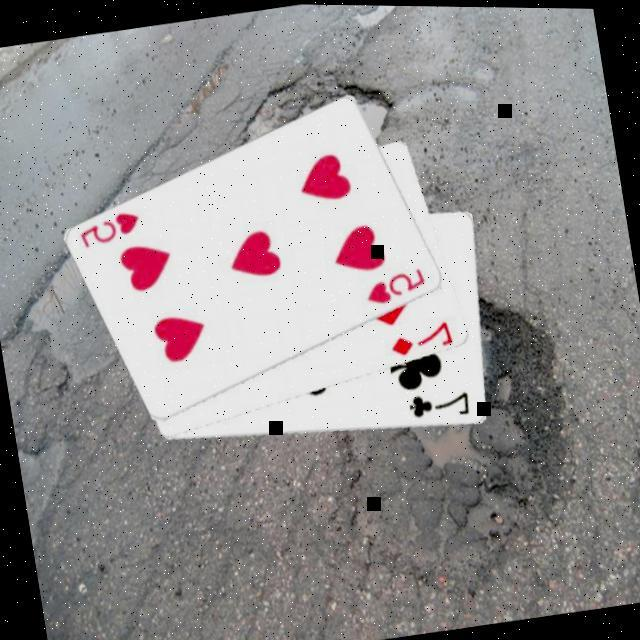5H: (74, 204, 148, 251), (361, 260, 432, 307)
7C: (405, 381, 475, 423)
7D: (386, 314, 458, 358)
